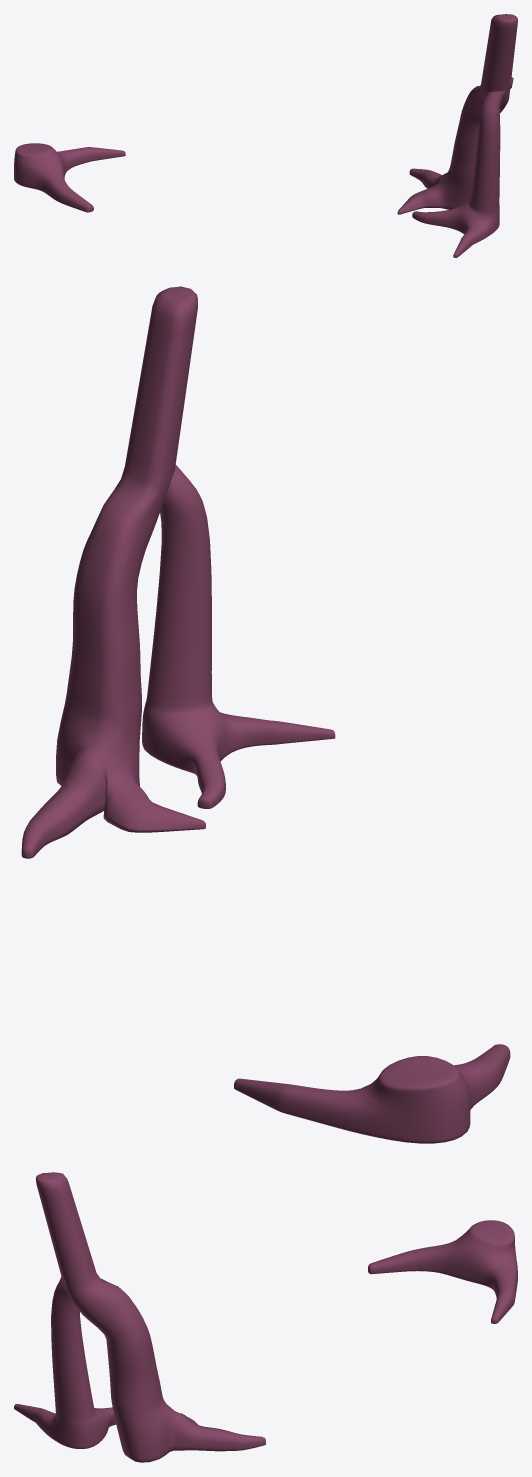
Rendered from hideandsmash_trunks.fbx.
3 renders of one model, top to bottom at view 1: azimuth 30°, elevation 25°; view 2: azimuth 150°, elevation 25°; view 3: azimuth 270°, elevation 25°, orthographic. The views are drawn at different scales.
Parts seen in each view (by area): view 1: trunk1, trunk2, trunkFront_geo; view 2: trunk1, trunk2, trunkFront_geo; view 3: trunk1, trunk2, trunkFront_geo.
Boxes of the visible parts, x1,y1,x2,y2 form: trunk1: (397, 14, 517, 214); trunk2: (412, 77, 513, 257); trunkFront_geo: (14, 143, 125, 212); trunk1: (21, 286, 205, 858); trunk2: (142, 465, 335, 808); trunkFront_geo: (234, 1044, 510, 1143); trunk1: (35, 1172, 265, 1462); trunk2: (14, 1267, 116, 1448); trunkFront_geo: (368, 1220, 517, 1323).
Bounding box in the file's own units: 106 × 65.26 × 108.
